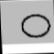no answer: (19, 12, 52, 40)
